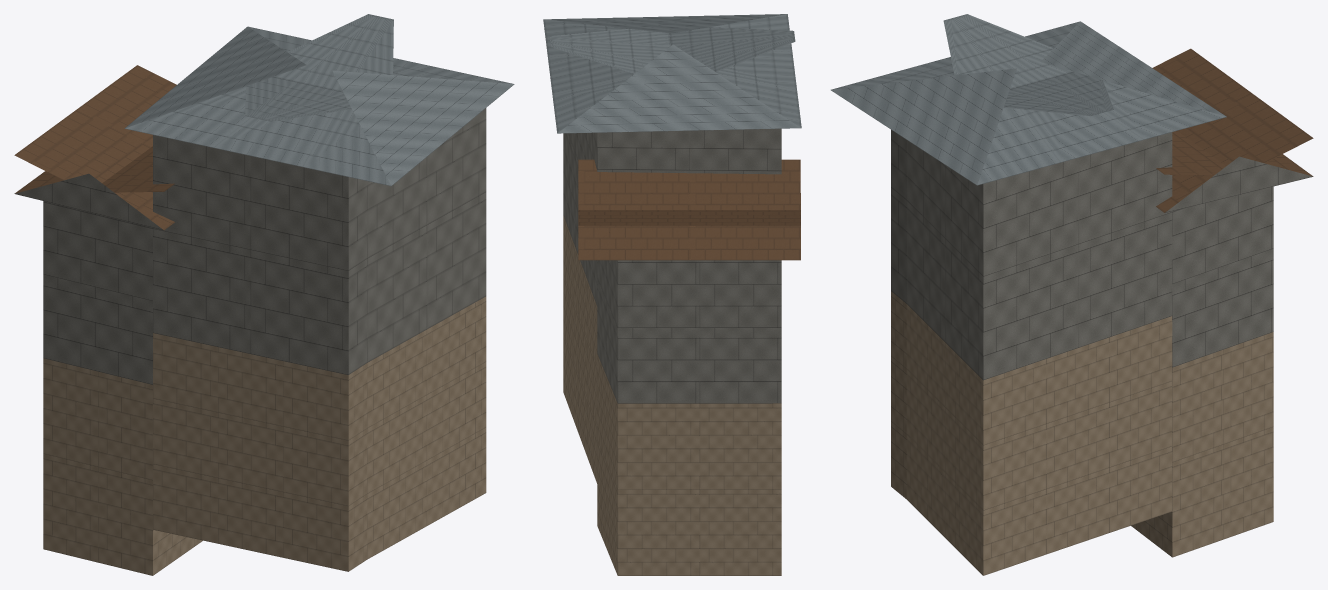
File: bld_c38_-11_541.gltf
The picture shows the model from 3 angles, left to right: view 1: azimuth 30°, elevation 25°; view 2: azimuth 150°, elevation 25°; view 3: azimuth 270°, elevation 25°; orthographic projection. The views are drawn at different scales.
Parts seen in each view (by area): view 1: bld_c38_-11_541; view 2: bld_c38_-11_541; view 3: bld_c38_-11_541.
Part boxes in pixels (left/top/right/bottom): bld_c38_-11_541: left=14, top=14, right=514, bottom=575; bld_c38_-11_541: left=543, top=14, right=801, bottom=575; bld_c38_-11_541: left=831, top=14, right=1313, bottom=575.
Bounding box in the file's own units: 10.67 × 12.7 × 11.43.
5 materials, 5 textured.
